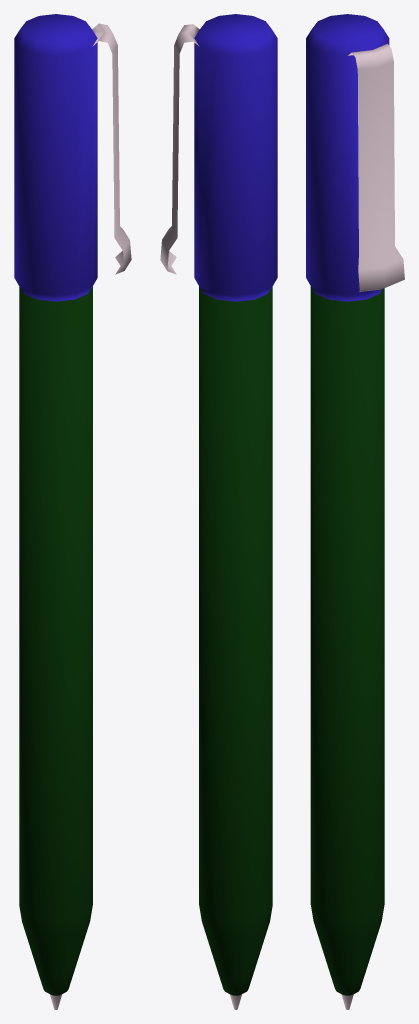
Rendered from pen.fbx.
3 views of the same model, side by side, from view 1: azimuth 30°, elevation 25°; view 2: azimuth 210°, elevation 25°; view 3: azimuth 330°, elevation 25° (orthographic).
Parts seen in each view (by area): view 1: Cylinder; view 2: Cylinder; view 3: Cylinder.
Part boxes in pixels (bbox=[...]): Cylinder: bbox=[14, 14, 131, 1009]; Cylinder: bbox=[160, 14, 277, 1009]; Cylinder: bbox=[306, 14, 404, 1009].
Bounding box in the file's own units: 58.95 × 558 × 50.62.
